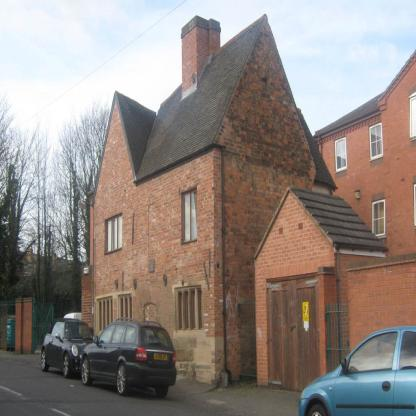Car: (299, 326, 416, 416), (82, 318, 178, 400), (43, 318, 94, 379)
